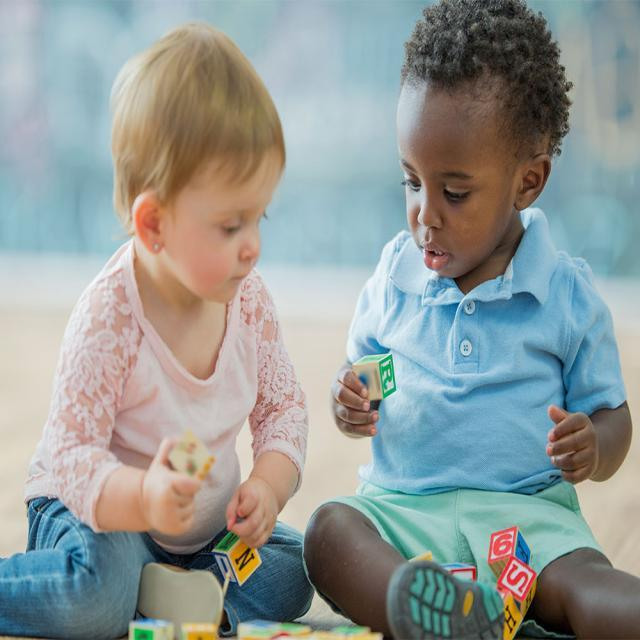non-dog: (302, 0, 640, 638), (2, 22, 314, 636)
